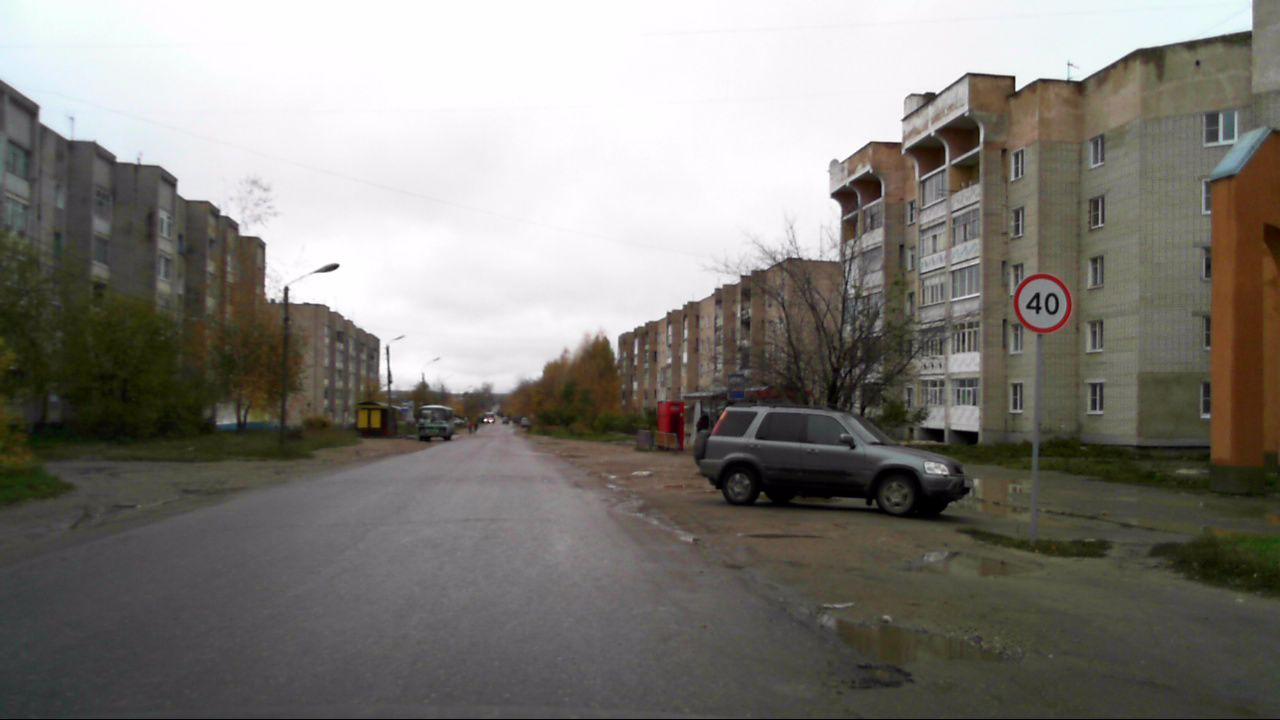speed_warning_40: (1011, 271, 1073, 335)
